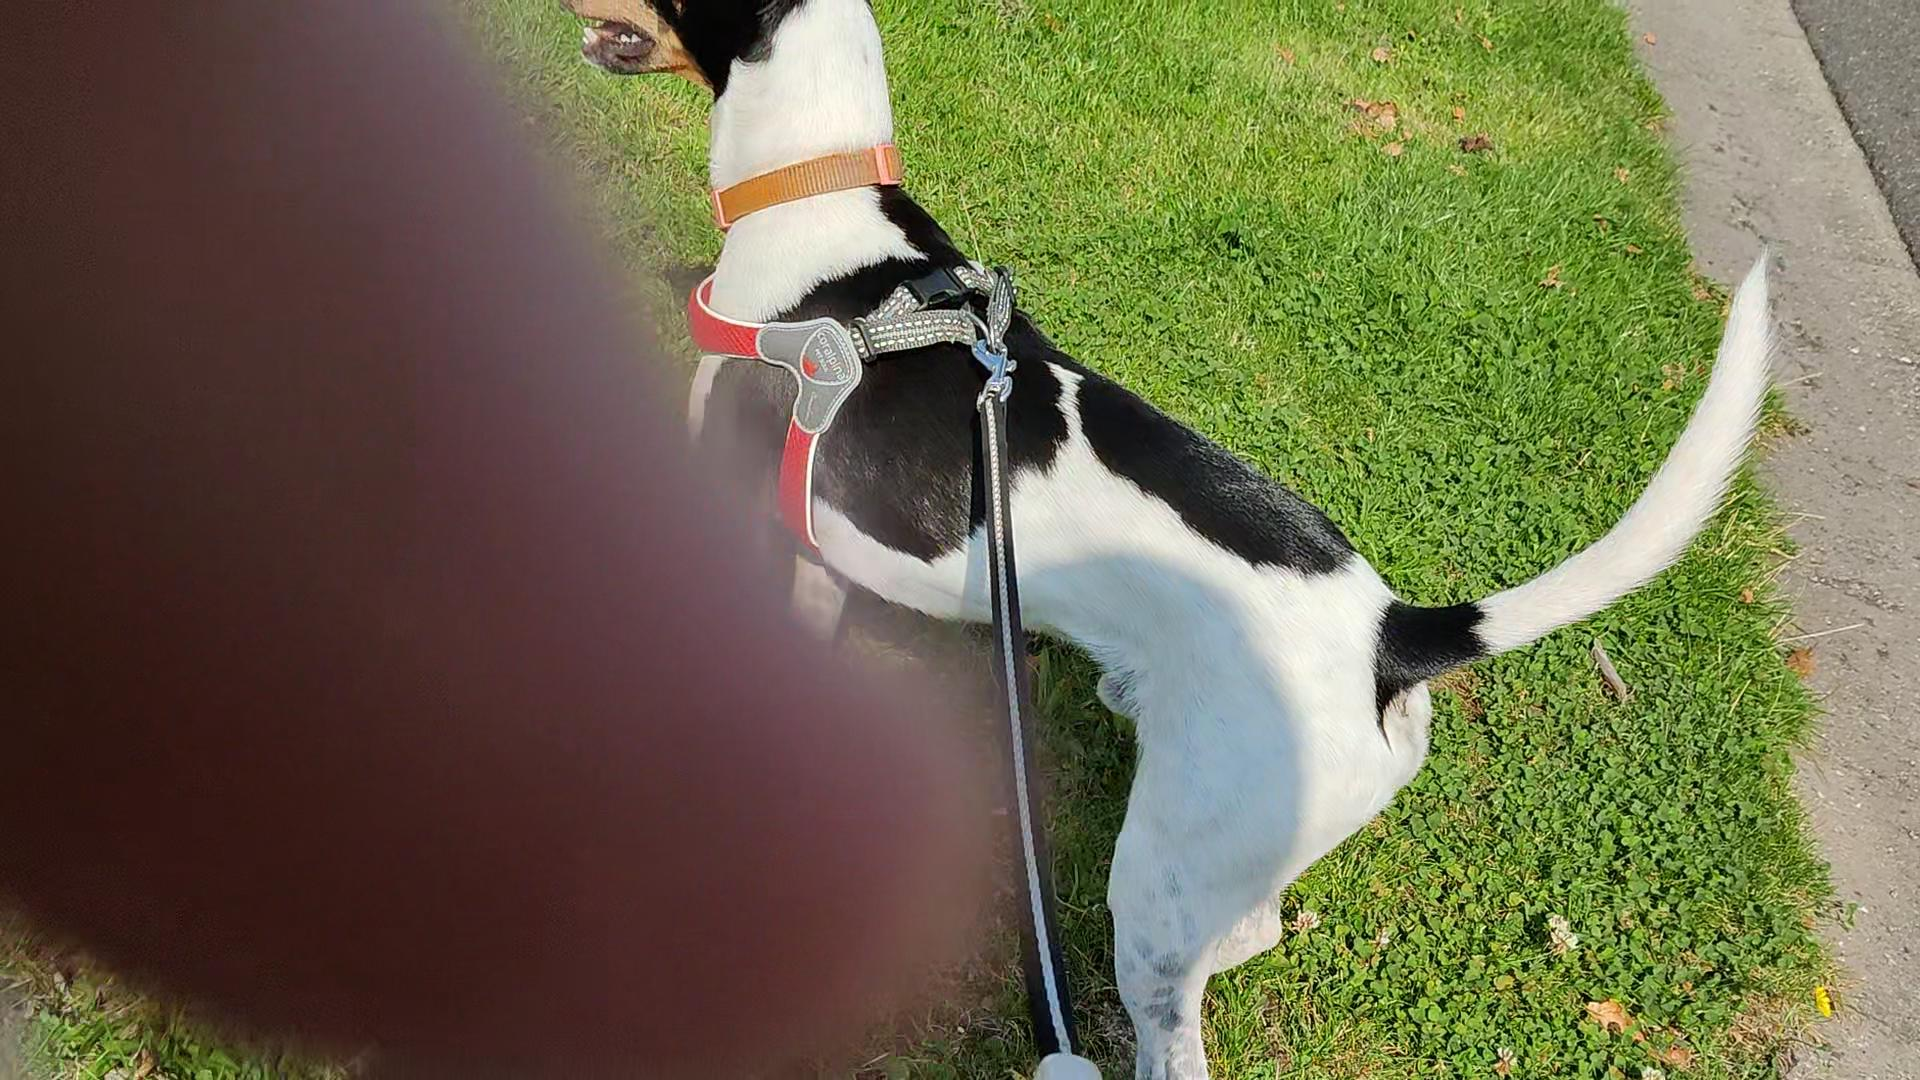Dog: (549, 0, 1780, 1080)
